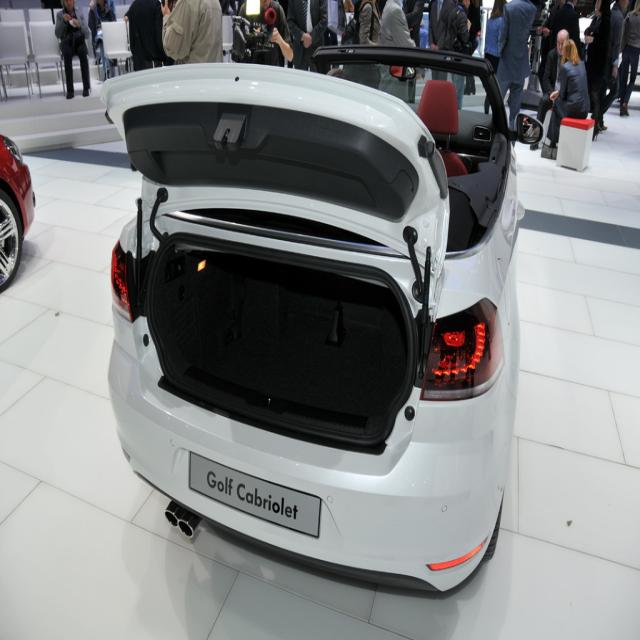car: (104, 36, 528, 599)
